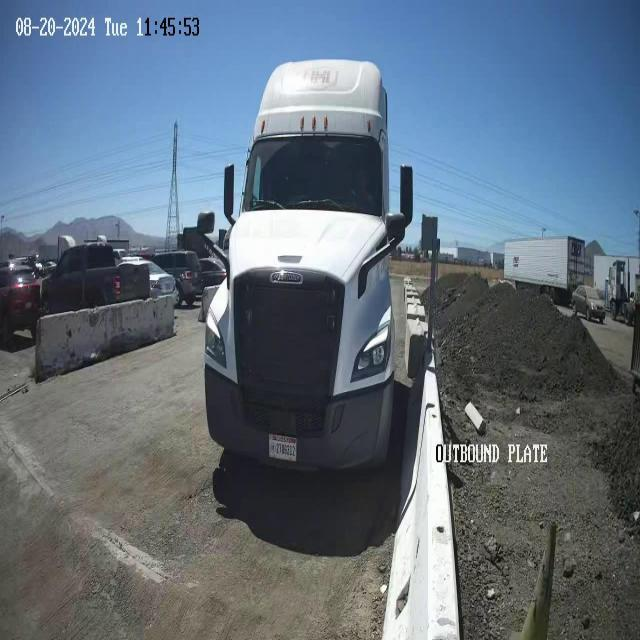TRUCK_OUT: (199, 57, 421, 476)
